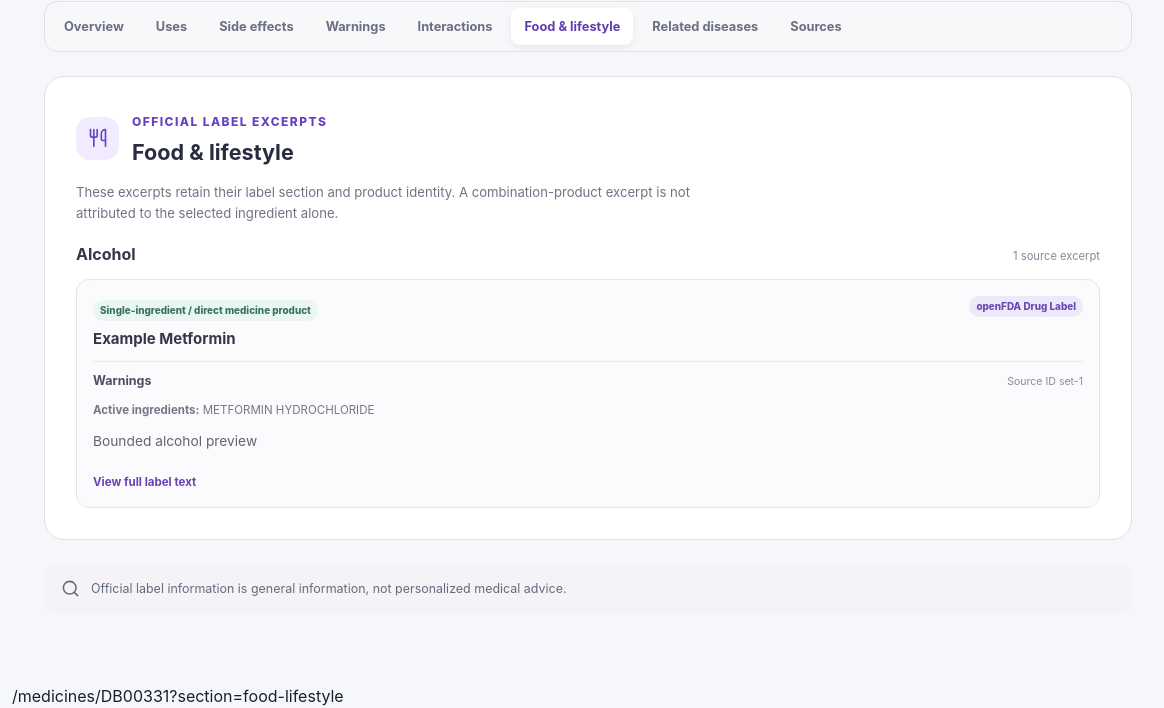
Test: MedicineGuide › switches between bounded previews and complete FDA section text
(page scrolled)
Expected: the text "Bounded alcohol preview" is shown, [93, 433, 257, 449]
Expected: the text "Complete alcohol section text returned by openFDA without a character limit." is not shown
Click the button "View full label text": [145, 483] box [93, 474, 196, 491]
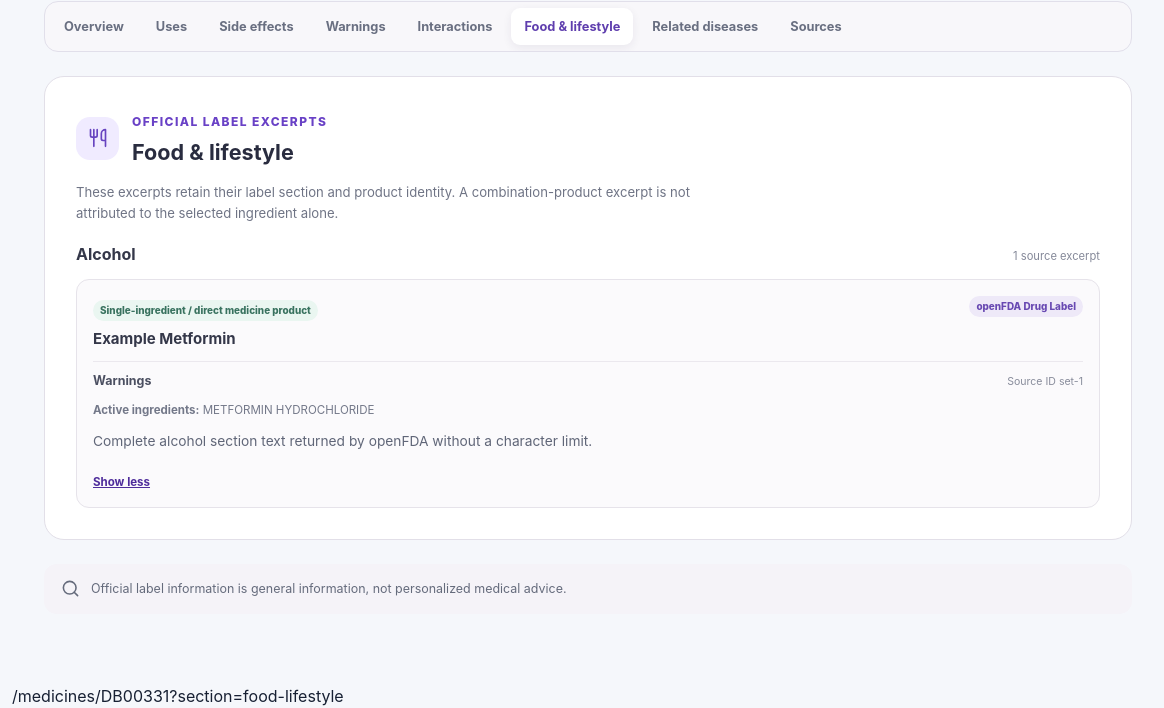
Now the text "Complete alcohol section text returned by openFDA without a character limit." is shown, box [93, 433, 592, 449]
Now the text "Bounded alcohol preview" is gone
Click the button "Show less": [122, 483] box [93, 474, 150, 491]
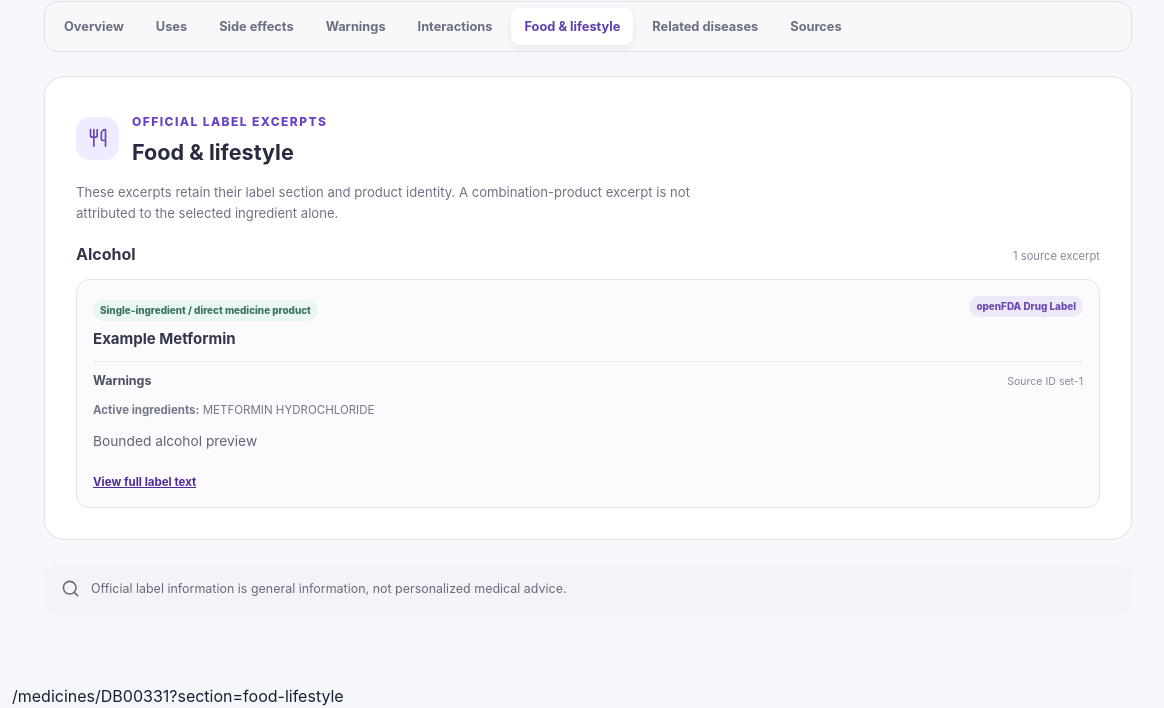
Now the text "Bounded alcohol preview" is shown, box [93, 433, 257, 449]
Click the link "Warnings": [356, 26] box [326, 19, 386, 34]
(page scrolled)
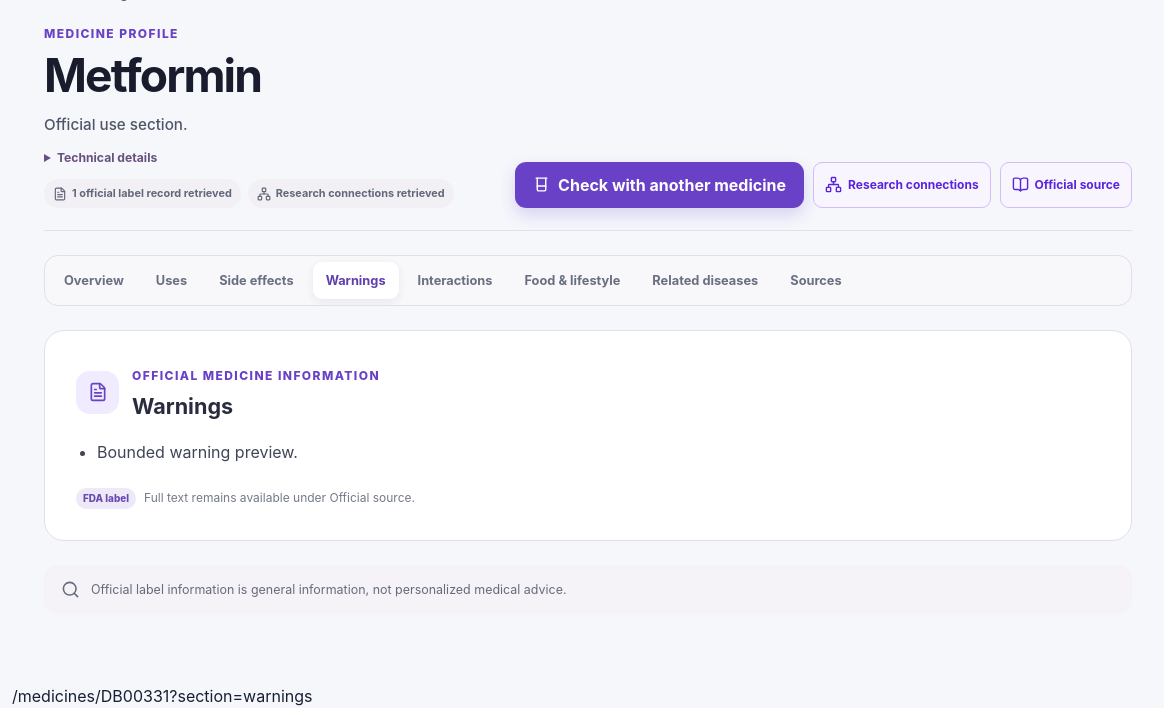
Now the list item "Bounded warning preview." is shown, box [97, 442, 298, 462]
Now the text "FDA label Full text remains available under Official source." is shown, box [76, 488, 415, 509]
